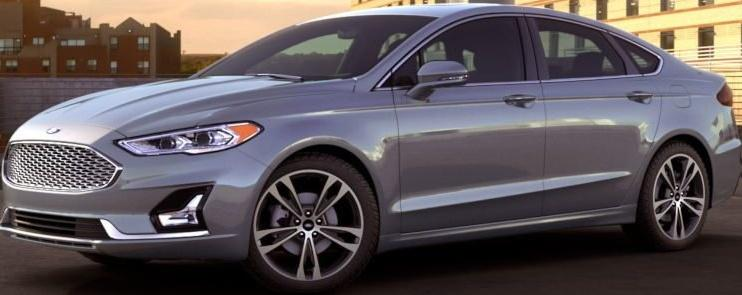Cars: (1, 7, 742, 294)
